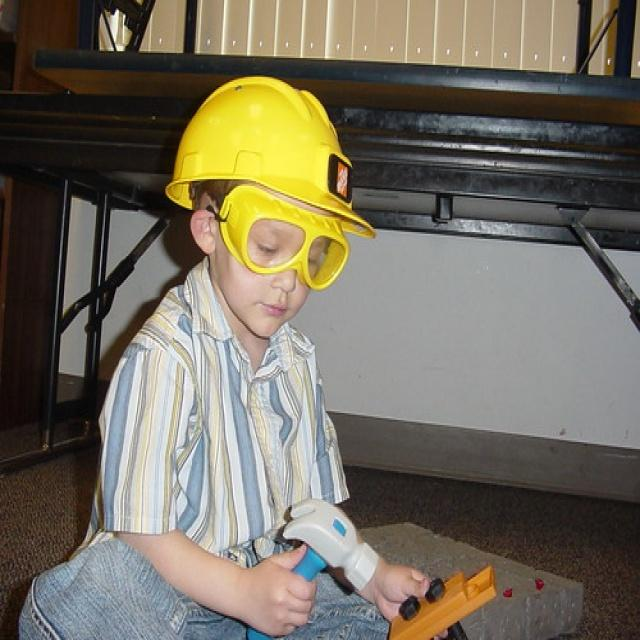helmet: (166, 90, 380, 322)
